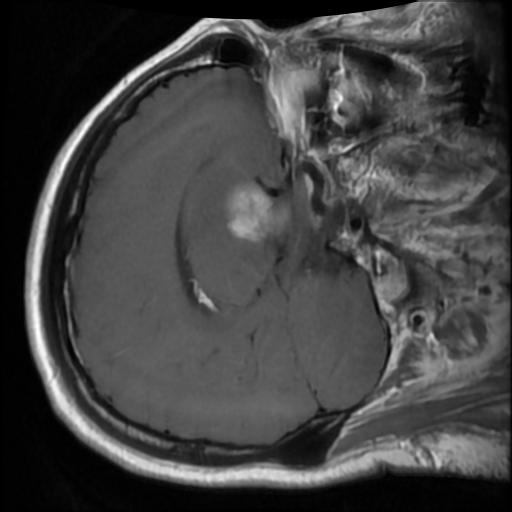pituitary tumour: (223, 181, 288, 240)
